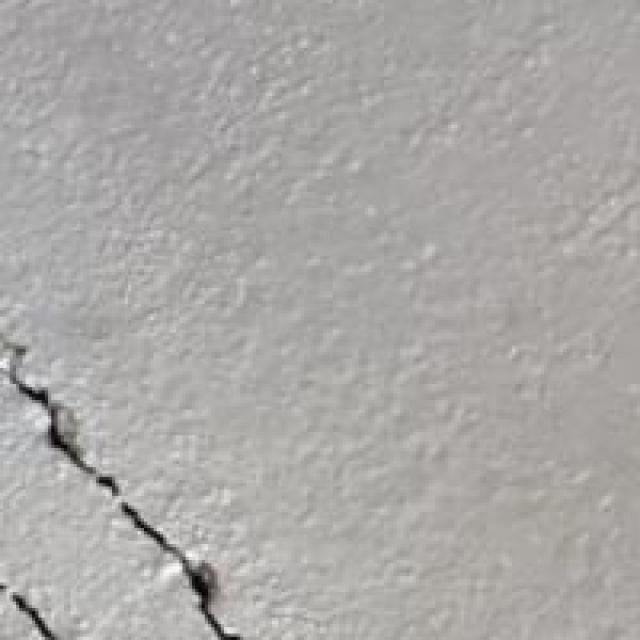Crack: (0, 272, 237, 637)
